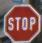Stop sign: (0, 0, 41, 42)
